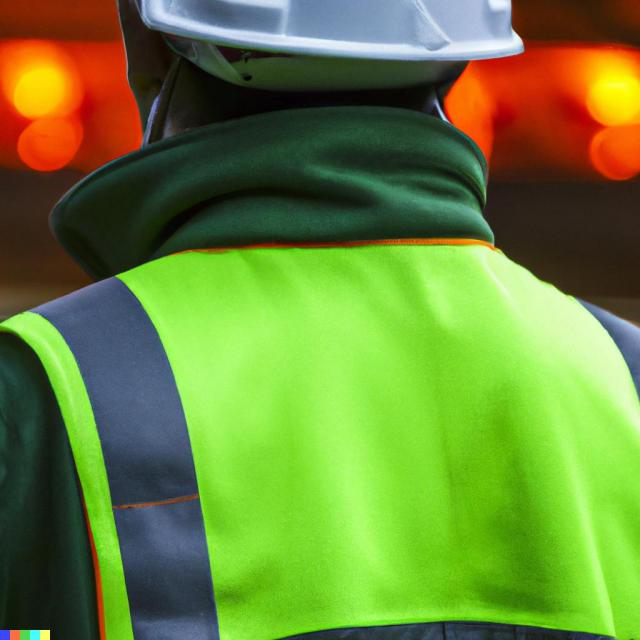Reflective-Jacket: (21, 91, 636, 637)
Safety-Helmet: (130, 0, 530, 61)
